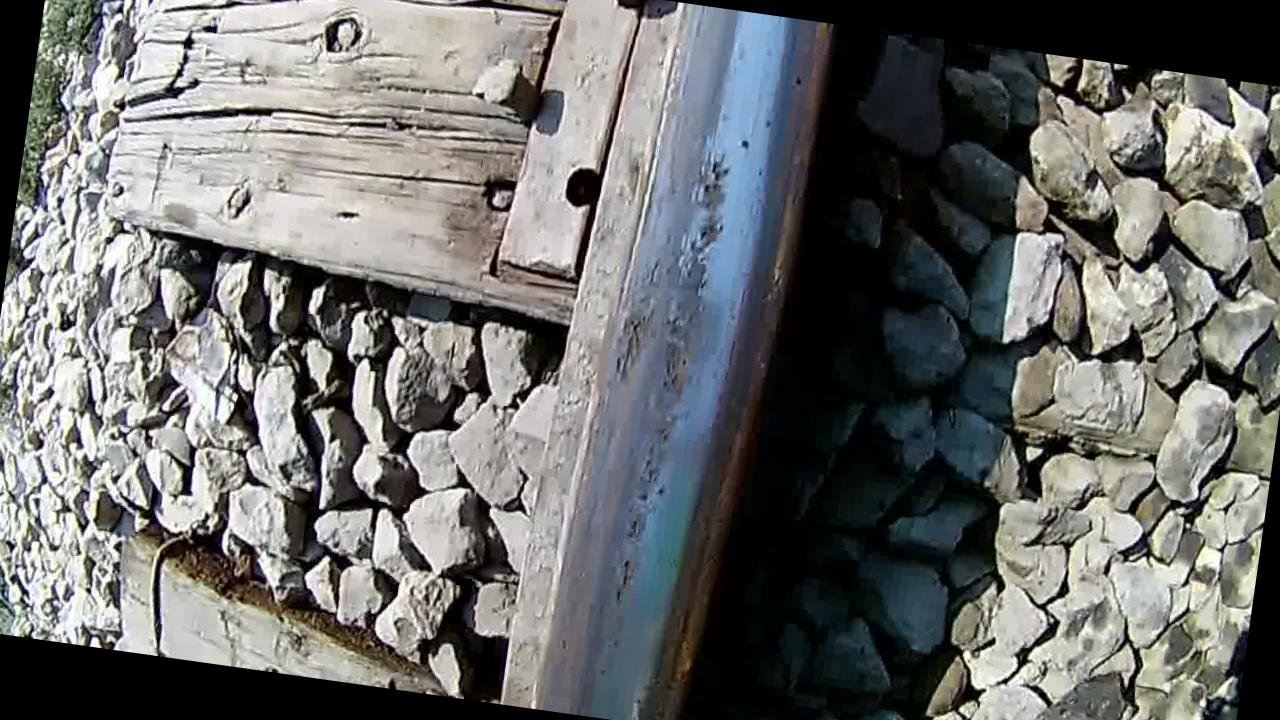crack: (537, 0, 830, 720)
